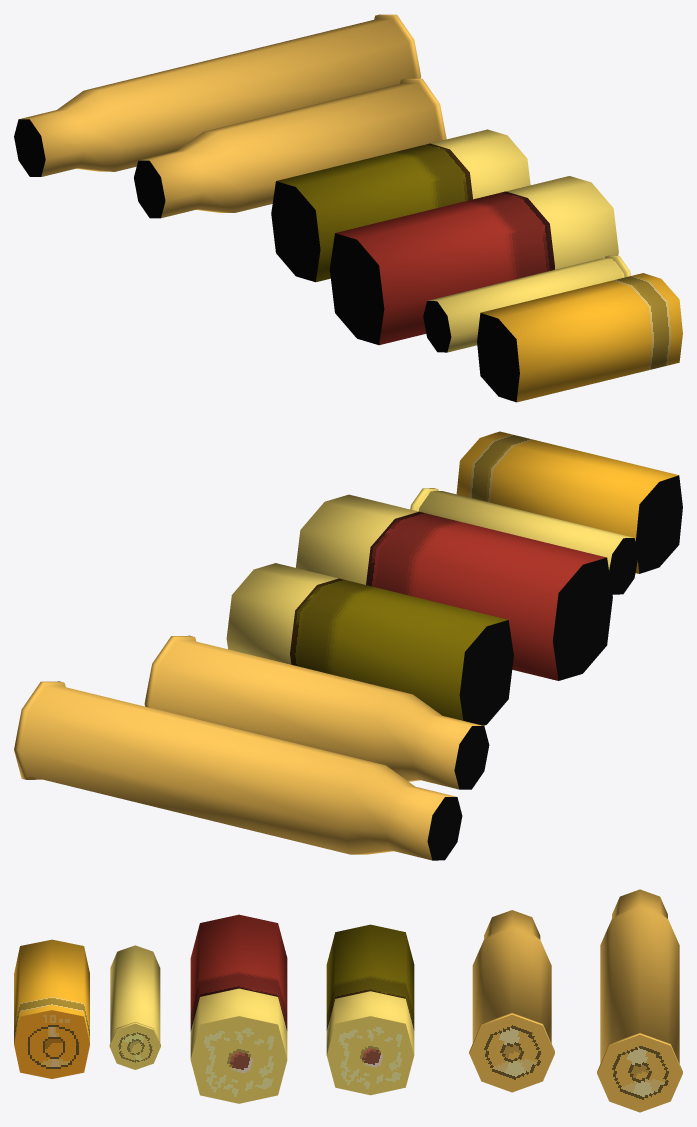
Rendered from shells.glb.
The picture shows the model from 3 angles, top to bottom: view 1: azimuth 30°, elevation 25°; view 2: azimuth 150°, elevation 25°; view 3: azimuth 270°, elevation 25°; orthographic projection. The views are drawn at different scales.
Parts seen in each view (by area): view 1: 308, 12, 762, 10mm, 20, 32; view 2: 308, 12, 20, 762, 10mm, 32; view 3: 12, 308, 20, 762, 10mm, 32.
Boxes of the visible parts, bbox=[...] form: 308: bbox=[14, 14, 421, 176]; 12: bbox=[329, 176, 618, 345]; 762: bbox=[134, 78, 446, 218]; 10mm: bbox=[477, 273, 682, 402]; 20: bbox=[271, 129, 530, 282]; 32: bbox=[423, 255, 630, 352]; 308: bbox=[14, 681, 462, 860]; 12: bbox=[295, 494, 612, 680]; 20: bbox=[226, 563, 513, 725]; 762: bbox=[144, 635, 489, 789]; 10mm: bbox=[456, 431, 682, 573]; 32: bbox=[410, 488, 638, 594]; 12: bbox=[190, 914, 287, 1103]; 308: bbox=[597, 889, 682, 1112]; 20: bbox=[326, 924, 414, 1095]; 762: bbox=[469, 910, 554, 1092]; 10mm: bbox=[14, 939, 89, 1078]; 32: bbox=[109, 945, 160, 1069].
Size of the model in its own units: 9.87 by 2.54 by 17.57.
5 materials, 5 textured.
